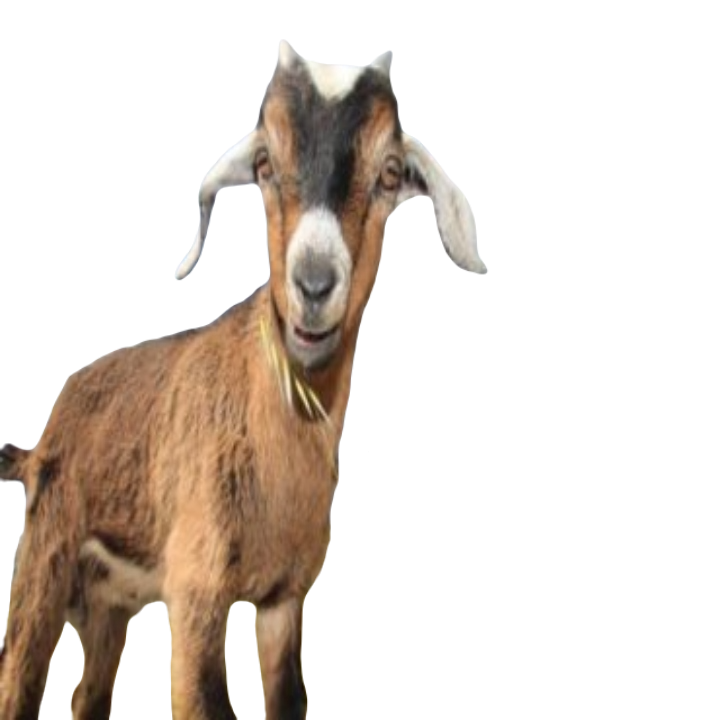Goat: (1, 39, 487, 719)
